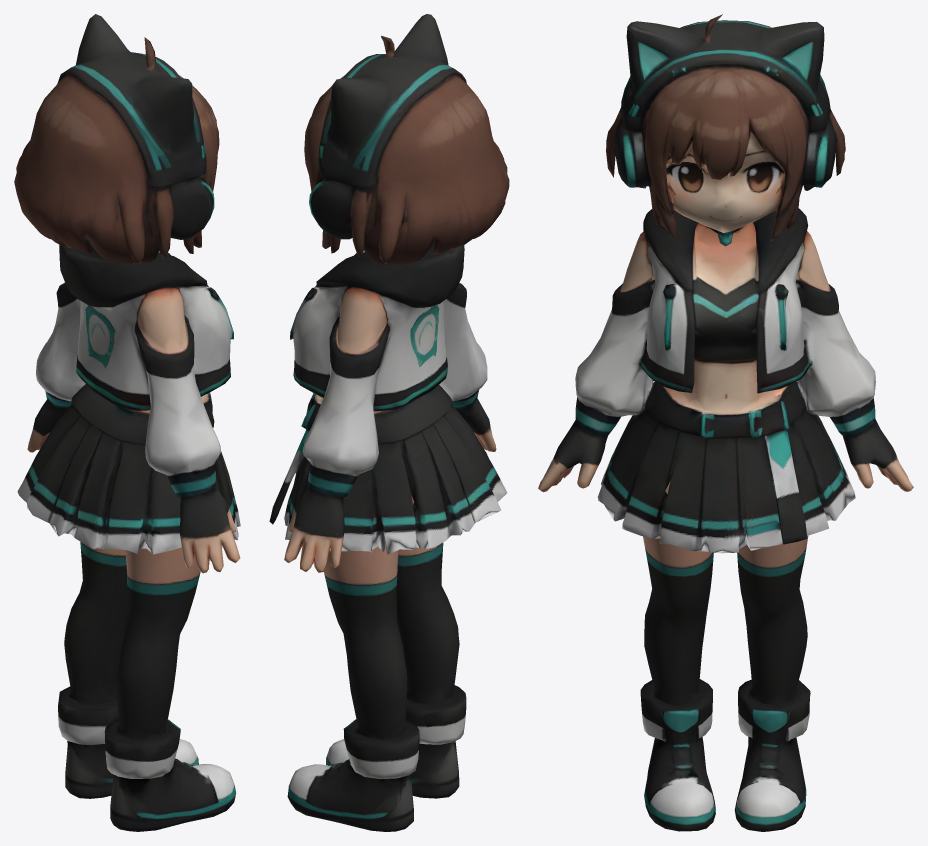
The model's file is tripo10K.fbx.
3 views of the same model, side by side, from view 1: azimuth 30°, elevation 25°; view 2: azimuth 150°, elevation 25°; view 3: azimuth 270°, elevation 25° (orthographic). The views are drawn at different scales.
Visible parts, largest first — view 1: tripo_node_4ddacf38; view 2: tripo_node_4ddacf38; view 3: tripo_node_4ddacf38.
Part boxes in pixels (x1,y1,x2,y2): tripo_node_4ddacf38: [14, 14, 240, 831]; tripo_node_4ddacf38: [269, 14, 509, 831]; tripo_node_4ddacf38: [538, 14, 913, 831].
Bounding box in the file's own units: 0.2632 × 0.9949 × 0.431.
Materials: 1 (1 with a texture image).
